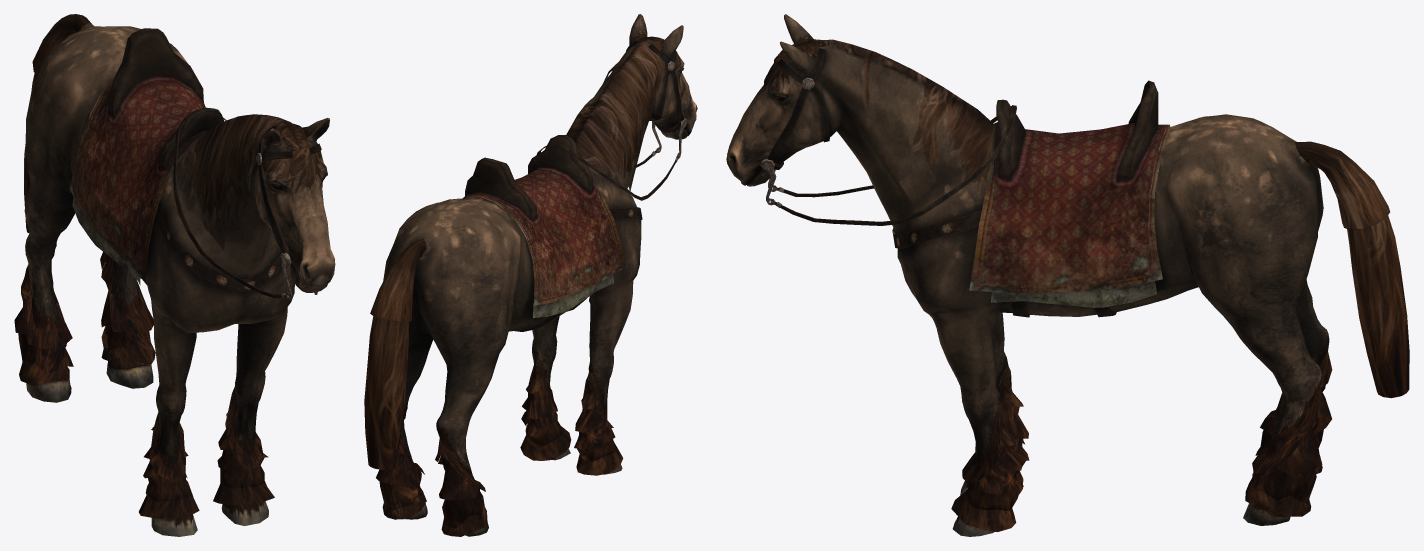
The model's file is horseD.obj.
3 renders of one model, left to right at view 1: azimuth 30°, elevation 25°; view 2: azimuth 150°, elevation 25°; view 3: azimuth 270°, elevation 25°, orthographic. The views are drawn at different scales.
Visible parts, largest first — view 1: horseD:horse1 group; view 2: horseD:horse1 group; view 3: horseD:horse1 group.
Boxes of the visible parts, <box> form: horseD:horse1 group: <box>14,14,335,536</box>; horseD:horse1 group: <box>364,14,697,536</box>; horseD:horse1 group: <box>726,14,1409,536</box>.
Bounding box in the file's own units: 32.81 × 92.12 × 118.
Materials: 2 (2 with a texture image).
